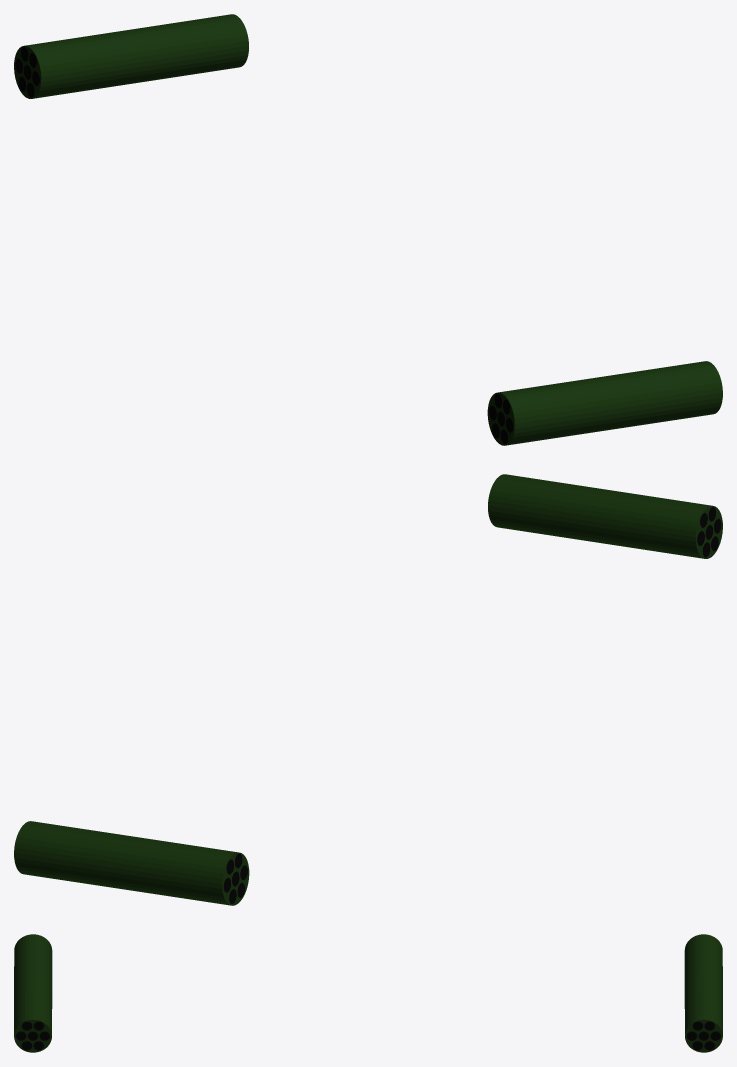
3 renders of one model, top to bottom at view 1: azimuth 30°, elevation 25°; view 2: azimuth 150°, elevation 25°; view 3: azimuth 270°, elevation 25°, orthographic. The views are drawn at different scales.
Parts seen in each view (by area): view 1: 円柱.007, 円柱.083; view 2: 円柱.083, 円柱.007; view 3: 円柱.083, 円柱.007.
Boxes of the visible parts, bbox=[...] form: 円柱.007: bbox=[487, 361, 722, 445]; 円柱.083: bbox=[14, 14, 248, 98]; 円柱.083: bbox=[14, 821, 249, 905]; 円柱.007: bbox=[488, 474, 722, 558]; 円柱.083: bbox=[684, 934, 722, 1052]; 円柱.007: bbox=[14, 934, 52, 1052].
Bounding box in the file's own units: 1.46 × 0.4464 × 5.97.
1 material, 1 textured.
